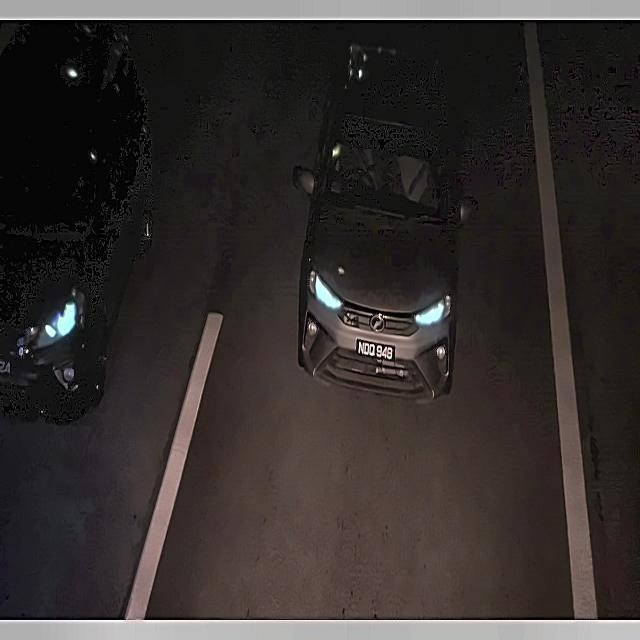car: (353, 331, 399, 369), (0, 355, 17, 384)
